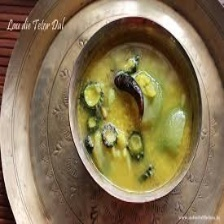dal: (73, 37, 200, 197)
